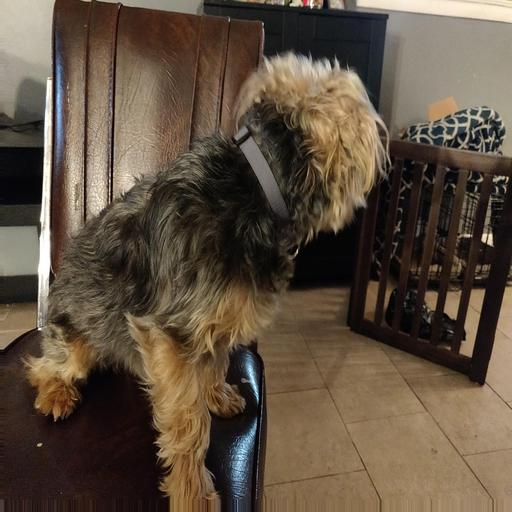dog: (168, 55, 391, 278)
